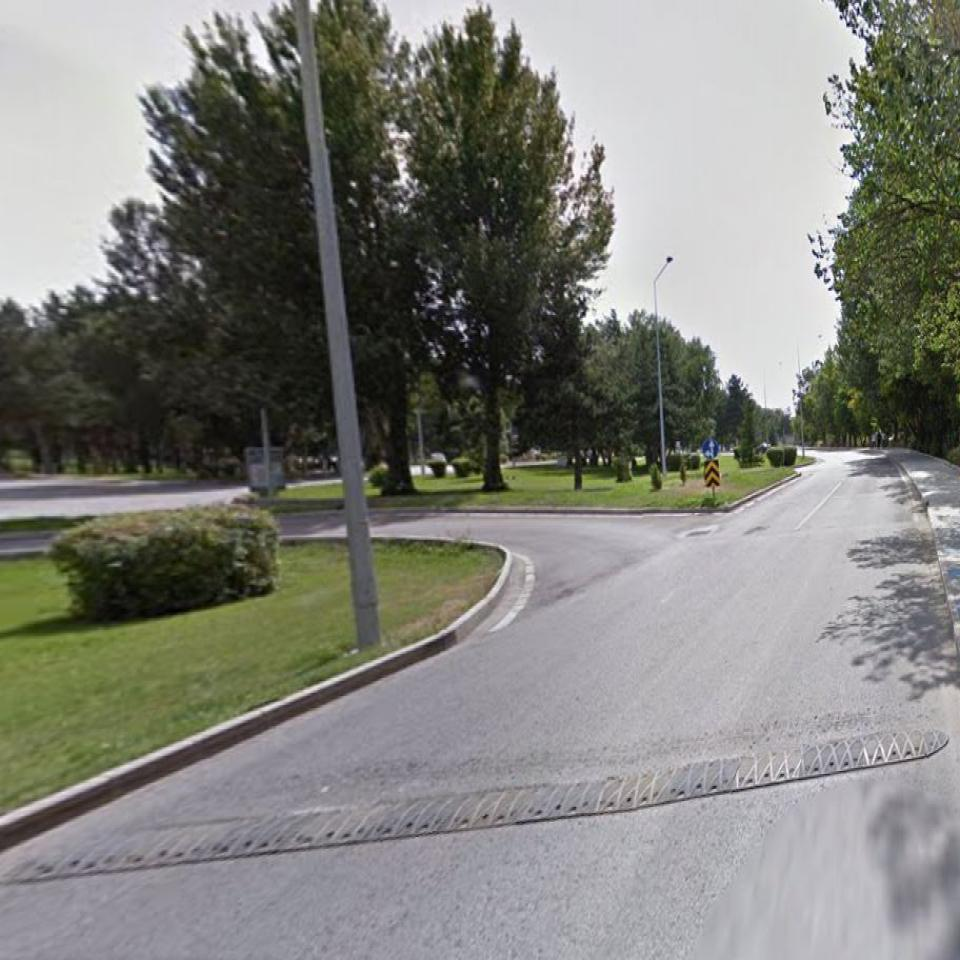Speed_Breaker: (0, 709, 957, 888), (11, 716, 950, 884)
